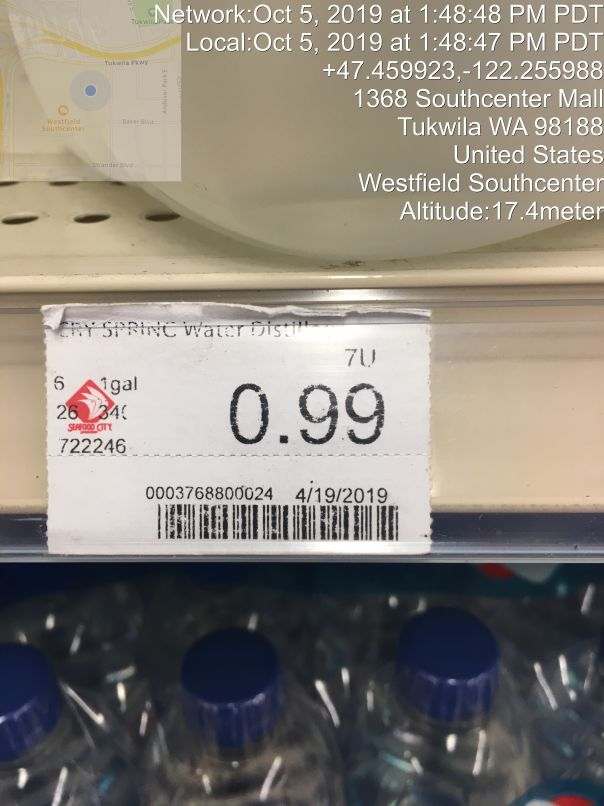Label: (25, 286, 456, 581)
Location: (344, 82, 604, 193)
Time: (142, 5, 604, 54)
Void: (24, 13, 590, 255)
